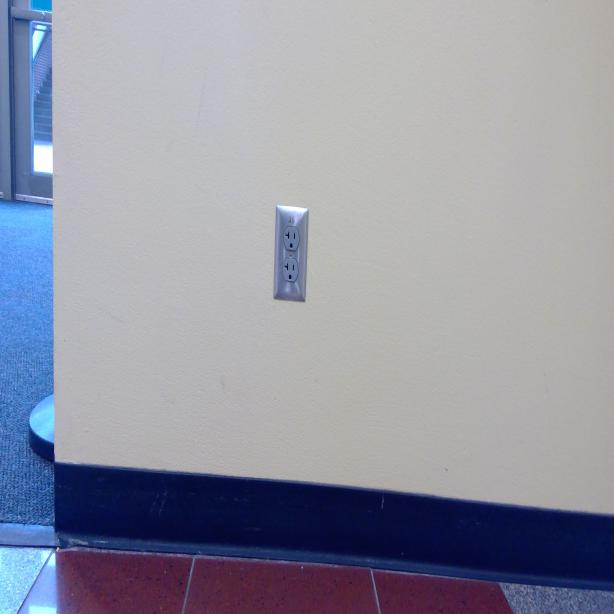typeb: (282, 225, 300, 253), (282, 258, 299, 284)
